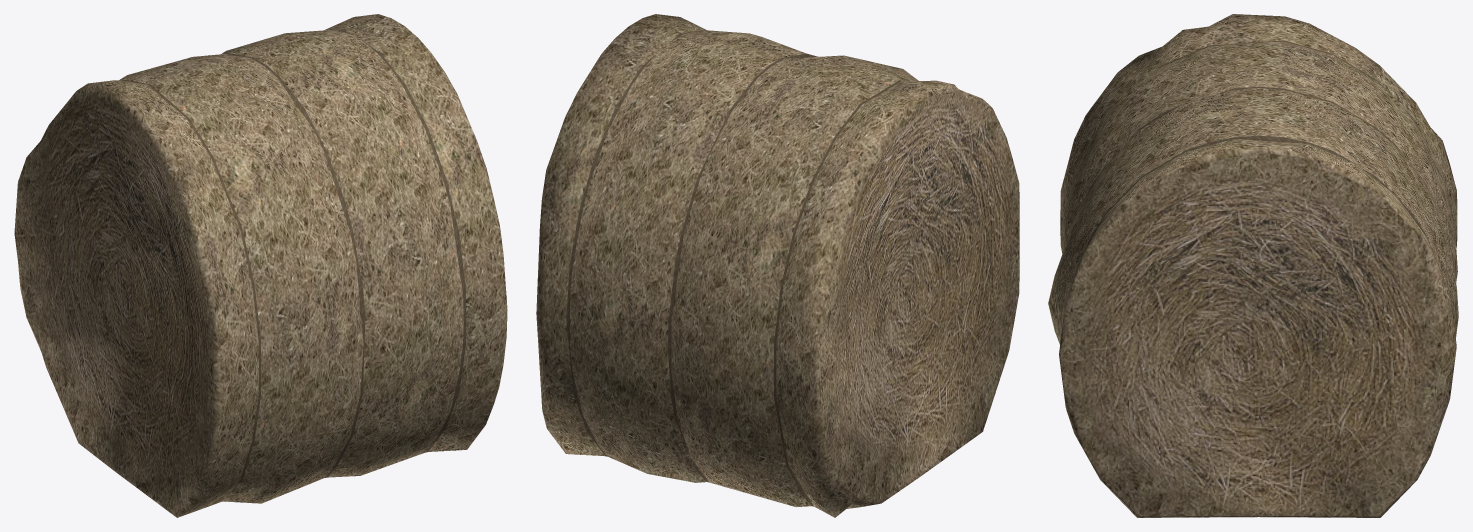
Rendered from bale.glb.
3 views of the same model, side by side, from view 1: azimuth 30°, elevation 25°; view 2: azimuth 150°, elevation 25°; view 3: azimuth 270°, elevation 25° (orthographic). The views are drawn at different scales.
Visible parts, largest first — view 1: Object_4; view 2: Object_4; view 3: Object_4.
Part boxes in pixels (x1,y1,x2,y2): Object_4: (14,14,507,517); Object_4: (536,14,1019,517); Object_4: (1048,14,1458,517).
Size of the model in its own units: 1.2 by 1.5 by 1.5.
Materials: 1 (1 with a texture image).
